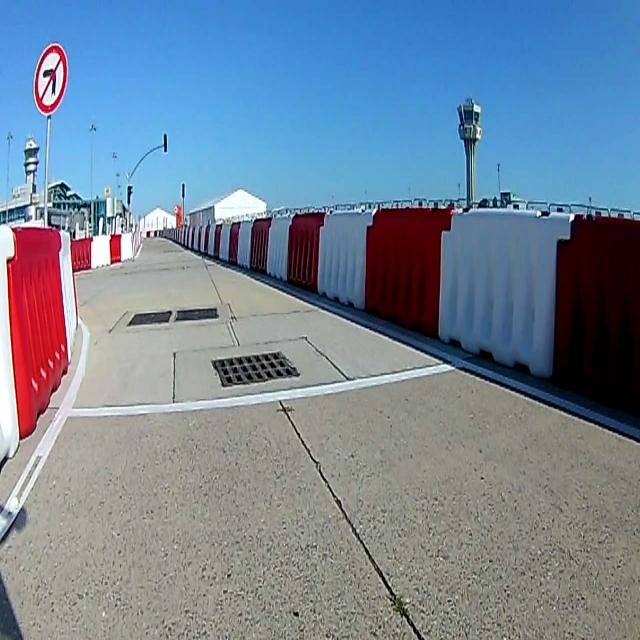soladonulmez: (33, 43, 67, 113)
